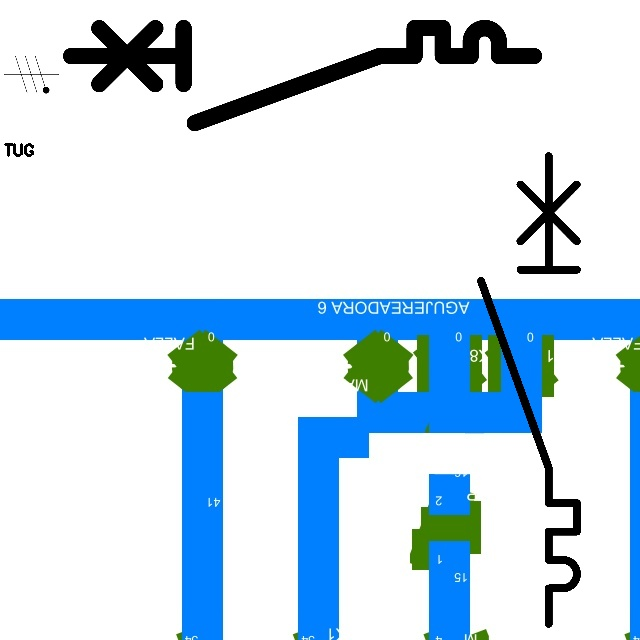interruptor_termomagnetico: (469, 144, 589, 636), (59, 16, 546, 135)
